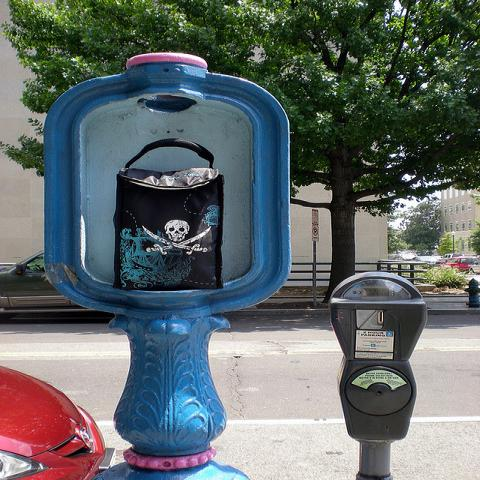car: (0, 365, 118, 480), (0, 250, 102, 322), (440, 257, 476, 270), (438, 253, 463, 261), (415, 257, 439, 263), (468, 261, 479, 273), (400, 253, 418, 260)
